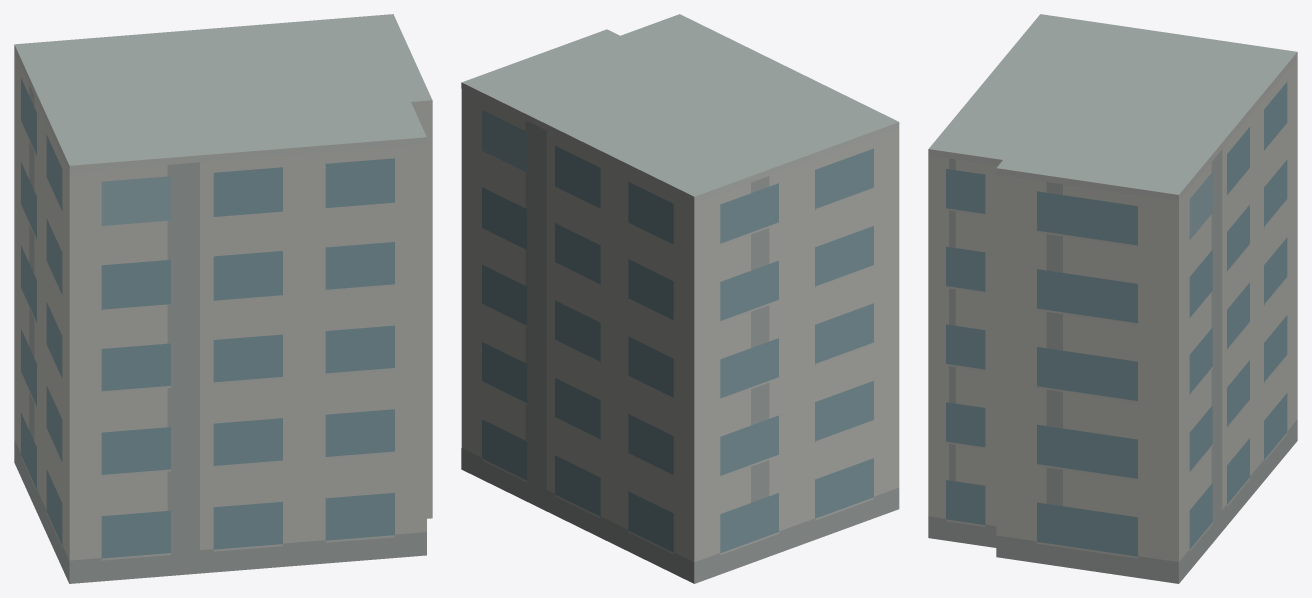
The model's file is survey-upis-32552565.glb.
The picture shows the model from 3 angles, left to right: view 1: azimuth 30°, elevation 25°; view 2: azimuth 150°, elevation 25°; view 3: azimuth 270°, elevation 25°; orthographic projection. The views are drawn at different scales.
Visible parts, largest first — view 1: survey-upis-32552565.tmp; view 2: survey-upis-32552565.tmp; view 3: survey-upis-32552565.tmp.
Part boxes in pixels (left/top/right/bottom): survey-upis-32552565.tmp: left=14, top=14, right=432, bottom=583; survey-upis-32552565.tmp: left=461, top=14, right=899, bottom=583; survey-upis-32552565.tmp: left=928, top=14, right=1297, bottom=583.
Size of the model in its own units: 14.67 by 14.7 by 12.65.
